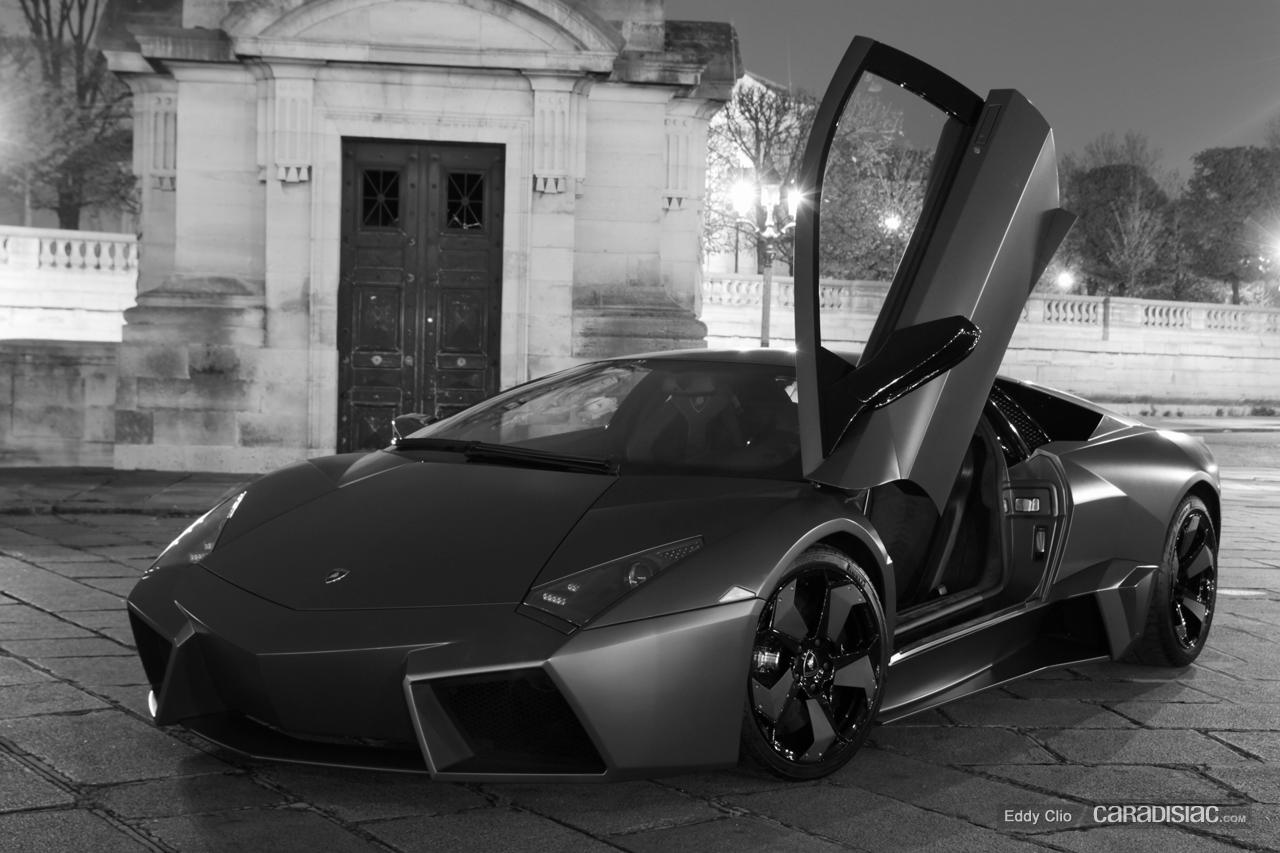car: (120, 338, 1227, 788)
